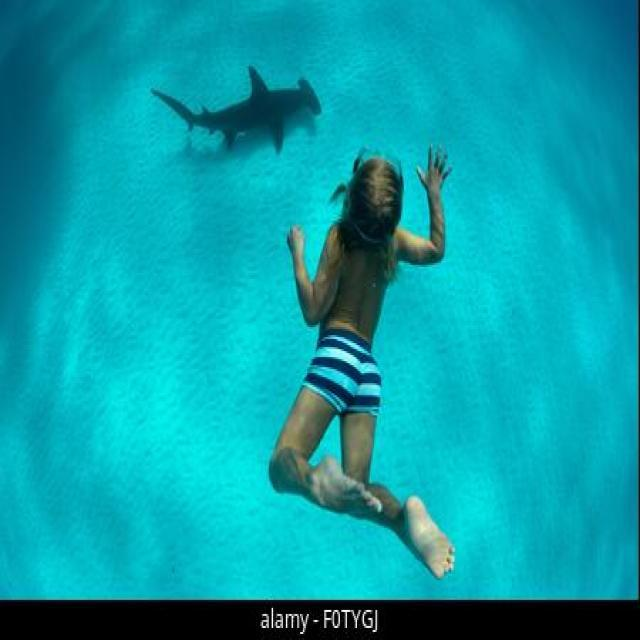Shark: (136, 24, 324, 163)
